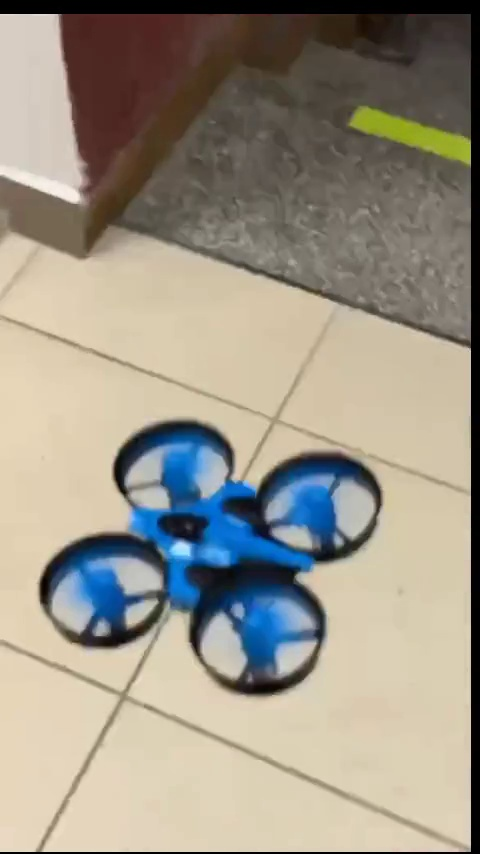drone: (44, 421, 379, 695)
